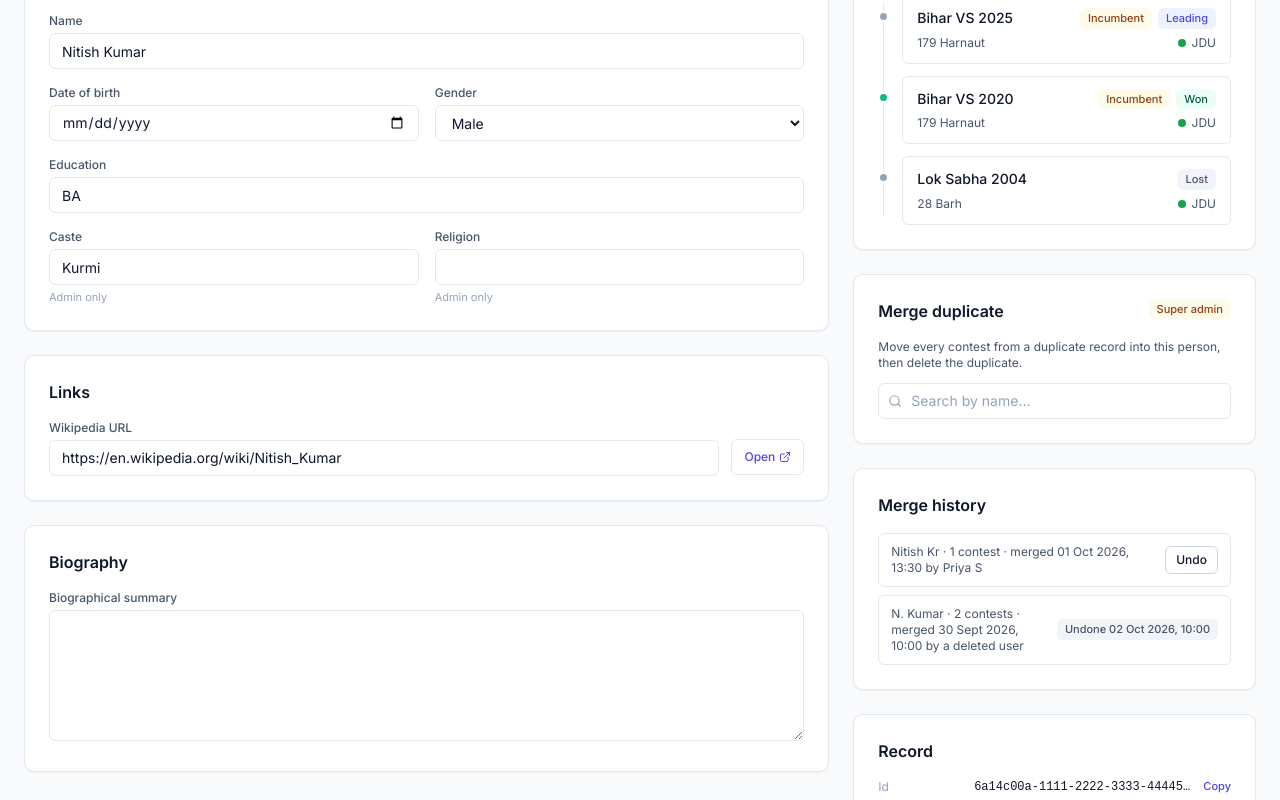
Test: Merge duplicate › a SUPER_ADMIN merges a duplicate into the open person after confirming, and the list refreshes
(page scrolled)
Expected: the text "Super admin" is shown, [1149,298,1231,319]
In the search field named "Search duplicates": (1055, 400) [878,382,1231,418], type "Nitish"
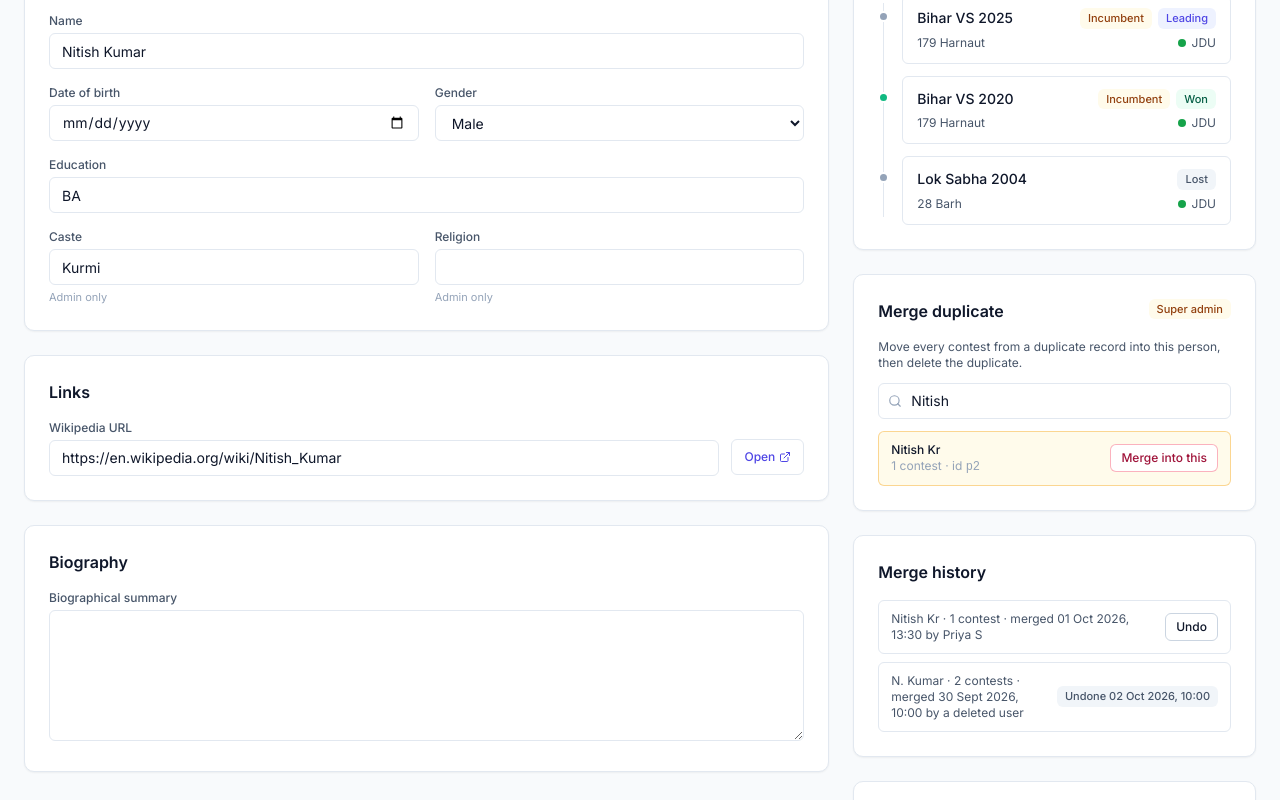
Click the button with aria-label "Merge Nitish Kr into this record": (1164, 458) [1110,444,1218,472]
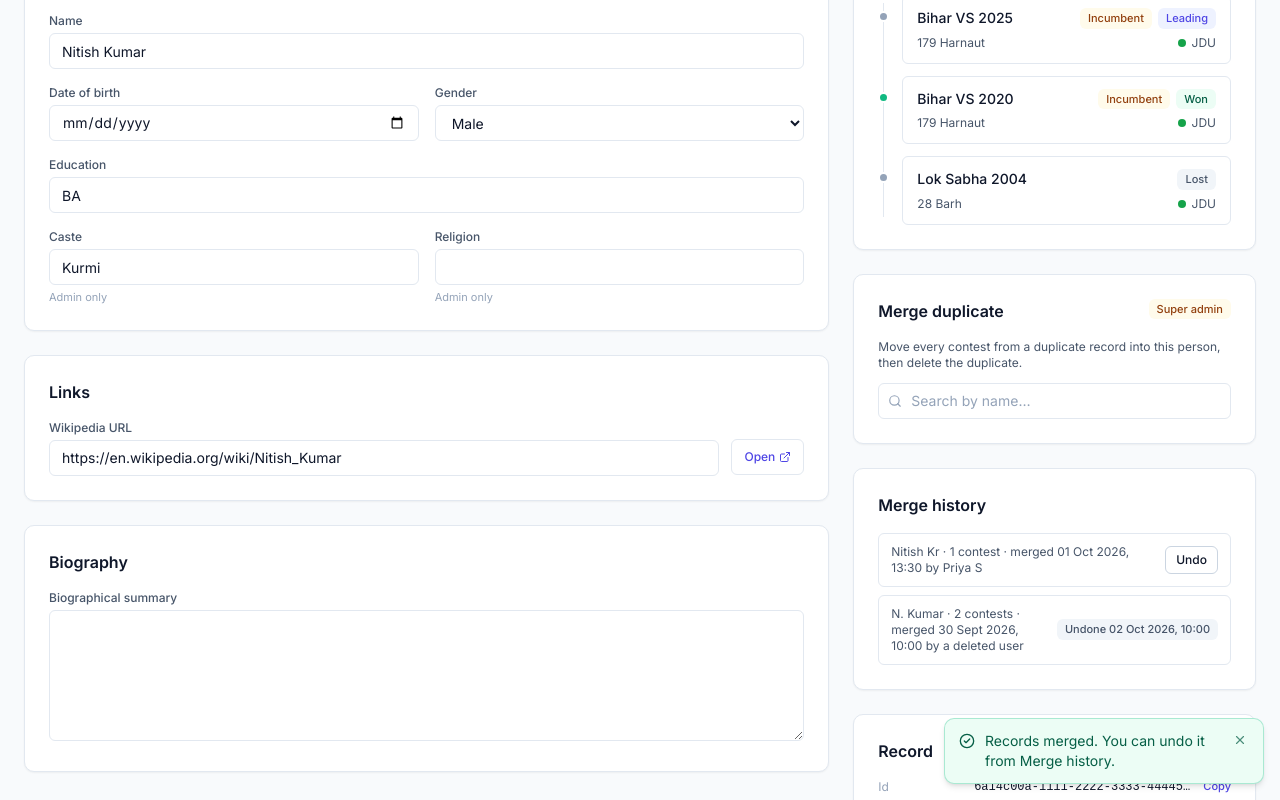
Result: the text "Records merged. You can undo it from Merge history." is shown at [985,731,1221,771]
